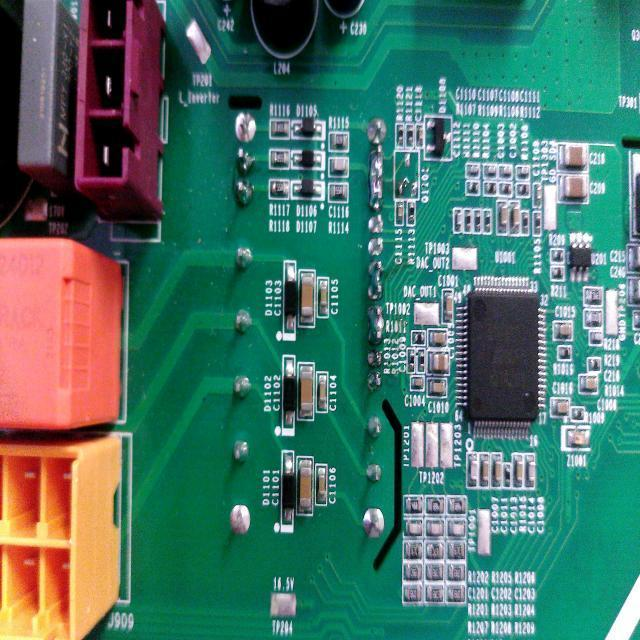Soldering shorted: (365, 142, 386, 212), (363, 301, 389, 351), (364, 256, 386, 302)
